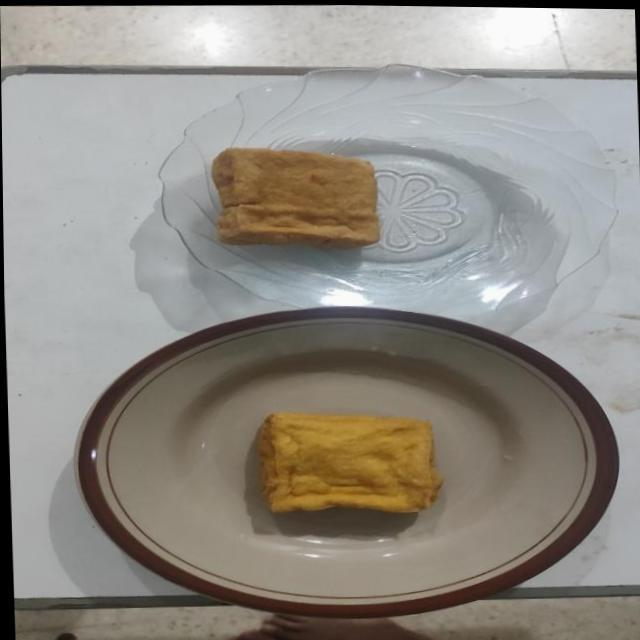tahu_goreng: (257, 412, 442, 512), (211, 148, 379, 248)
